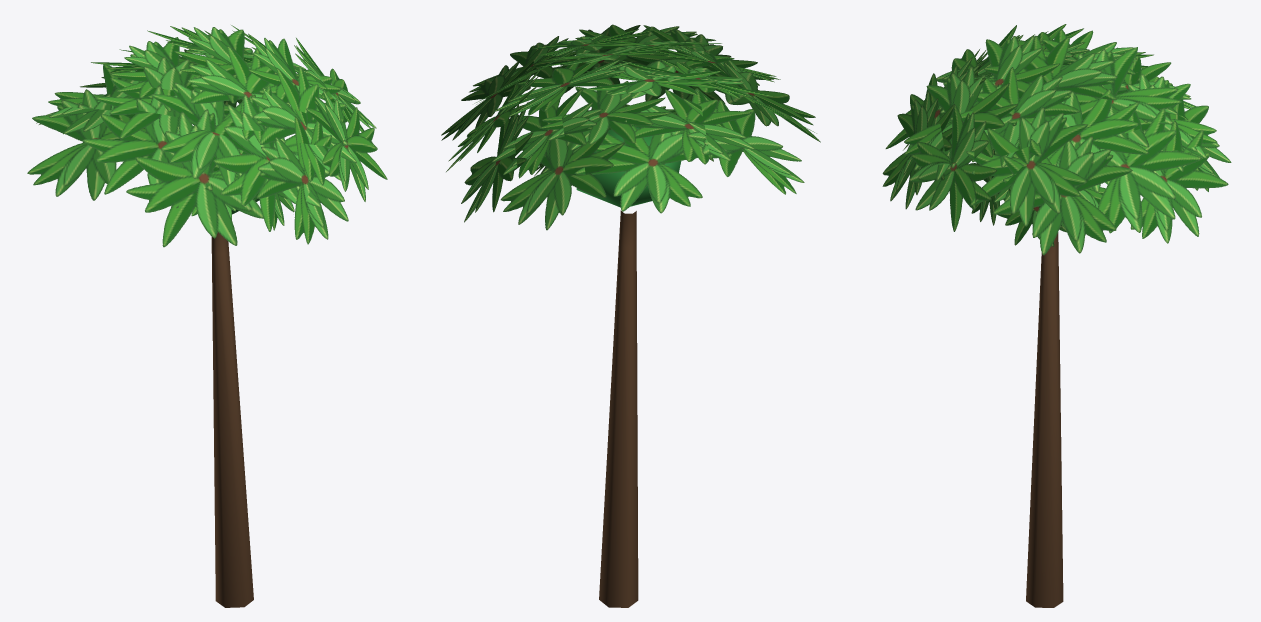
File: tree-vn-mango-lod.glb
3 views of the same model, side by side, from view 1: azimuth 30°, elevation 25°; view 2: azimuth 150°, elevation 25°; view 3: azimuth 270°, elevation 25° (orthographic). The views are drawn at different scales.
Visible parts, largest first — view 1: tree-vn-mango-lod; view 2: tree-vn-mango-lod; view 3: tree-vn-mango-lod.
Part boxes in pixels (x1,y1,x2,y2): tree-vn-mango-lod: [27, 25, 387, 607]; tree-vn-mango-lod: [441, 24, 820, 607]; tree-vn-mango-lod: [882, 24, 1231, 607].
Size of the model in its own units: 5.39 by 8 by 4.97.
3 materials, 1 textured.
